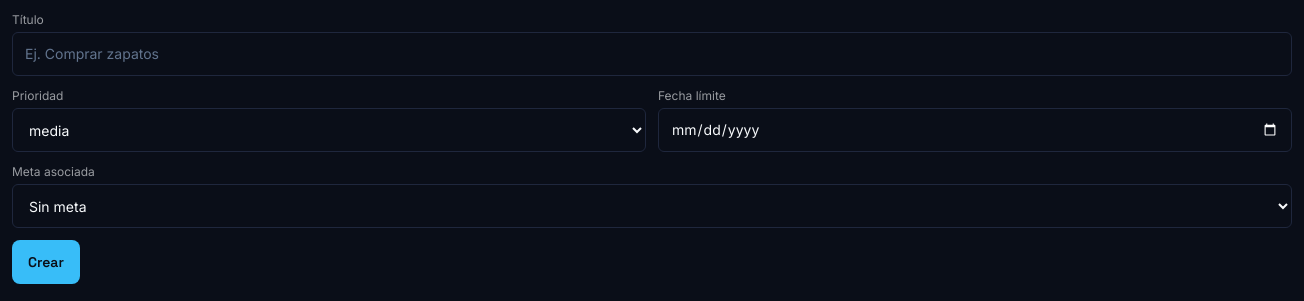
it: S2 tareas: crear con meta por nombre y completar › crea una tarea vía POST /tasks con prioridad, fecha y meta elegida por nombre
Type "Comprar zapatos" into the field labelled "Título" at (652, 54), box [12,32,1292,76]
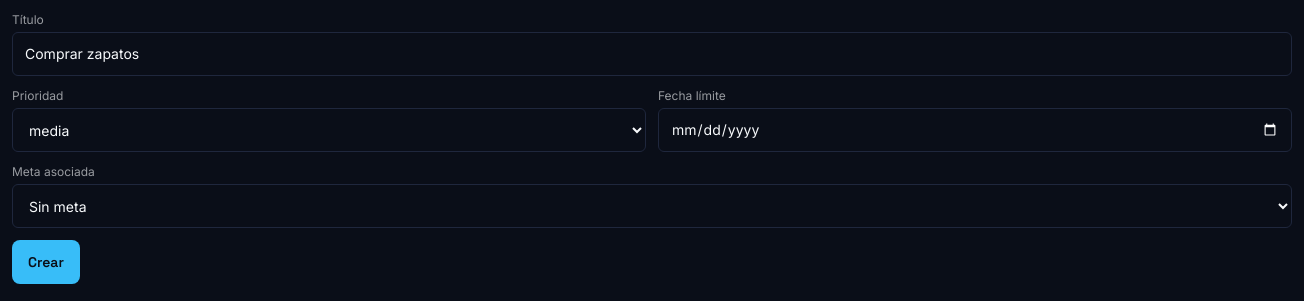
Select "alta" in the dropdown labelled "Prioridad" at (329, 130), box [12,108,646,152]
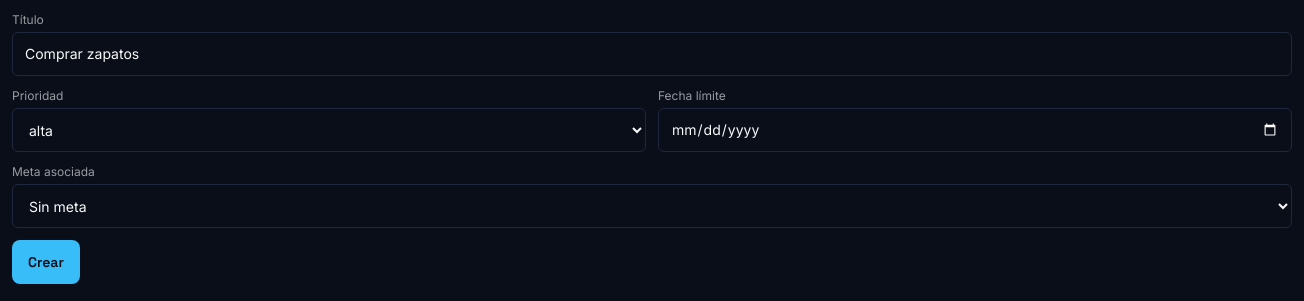
Type "2026-09-10" into the date field labelled "Fecha límite" at (975, 130), box [658,108,1292,152]
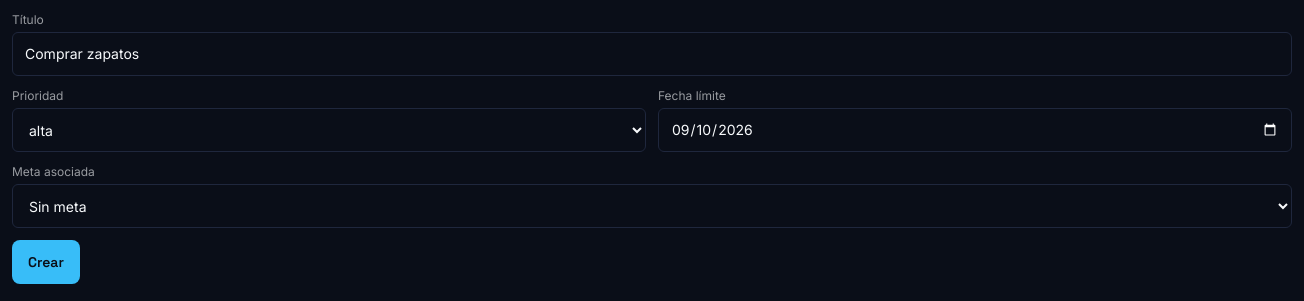
Select "Maratón" in the dropdown labelled "Meta asociada" at (652, 206), box [12,184,1292,228]
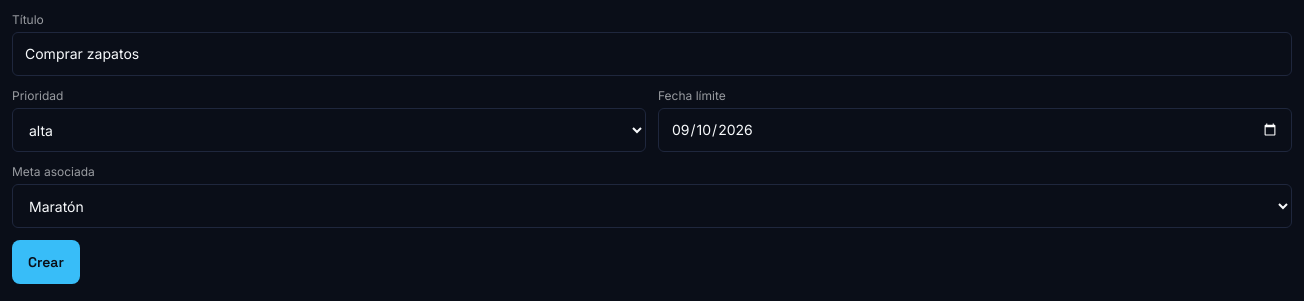
Click the button "Crear" at (46, 262), box [12,240,80,284]
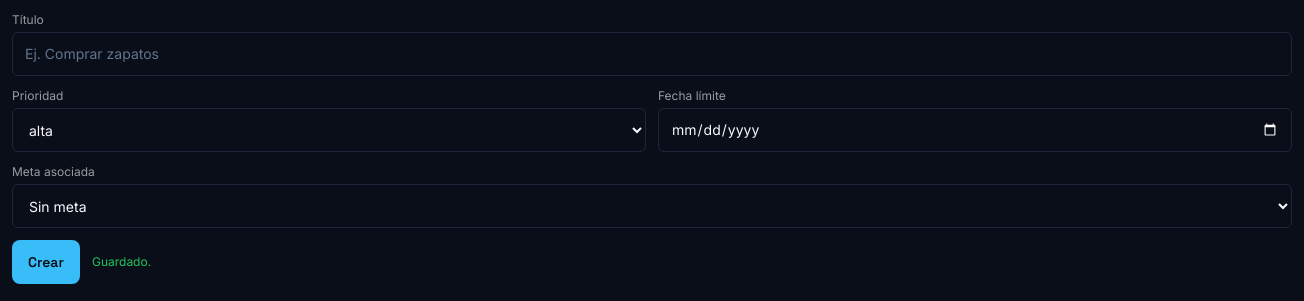
Expected: the text "Guardado." is shown, [92,254,151,270]
